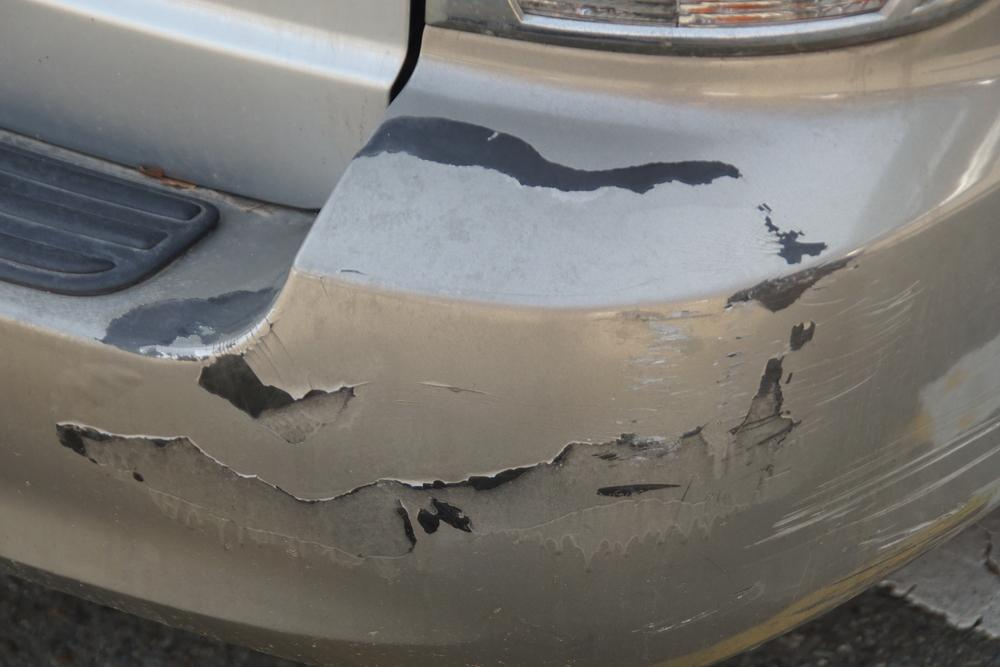scratch: (45, 198, 997, 566), (198, 349, 377, 445)
